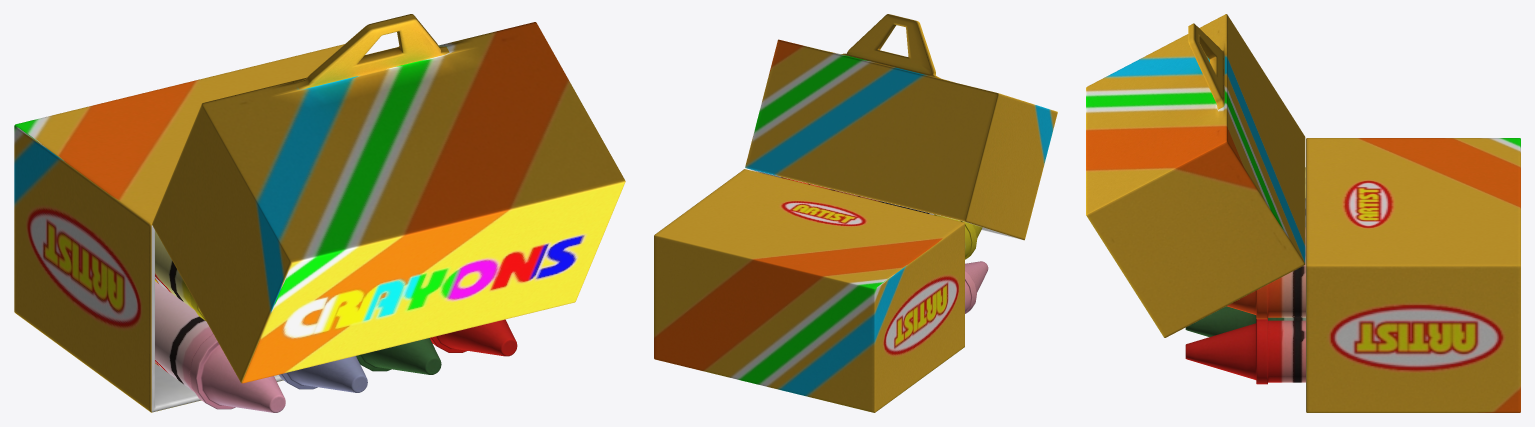
File: 10269_Box_of_Crayons_L2.obj
3 renders of one model, left to right at view 1: azimuth 30°, elevation 25°; view 2: azimuth 150°, elevation 25°; view 3: azimuth 270°, elevation 25°, orthographic. The views are drawn at different scales.
Parts seen in each view (by area): view 1: box2, box1, crayon09, crayon07, crayon03, crayon05, crayon08; view 2: box1, box2, crayon09, crayon08; view 3: box1, box2, crayon03, crayon02, crayon05.
Part boxes in pixels (<box>): box2: <box>152,14,625,383</box>; box1: <box>14,44,432,412</box>; crayon09: <box>155,281,285,412</box>; crayon07: <box>279,356,367,392</box>; crayon03: <box>430,319,517,356</box>; crayon05: <box>356,338,441,374</box>; crayon08: <box>155,230,205,320</box>; box1: <box>654,169,964,412</box>; box2: <box>745,14,1057,240</box>; crayon09: <box>965,261,988,313</box>; crayon08: <box>934,214,982,259</box>; box1: <box>1306,138,1520,412</box>; box2: <box>1086,14,1305,337</box>; crayon03: <box>1185,319,1305,384</box>; crayon02: <box>1226,255,1305,319</box>; crayon05: <box>1185,306,1305,336</box>.
Size of the model in its own units: 10.41 by 12.07 by 14.96.
Materials: 1 (1 with a texture image).
